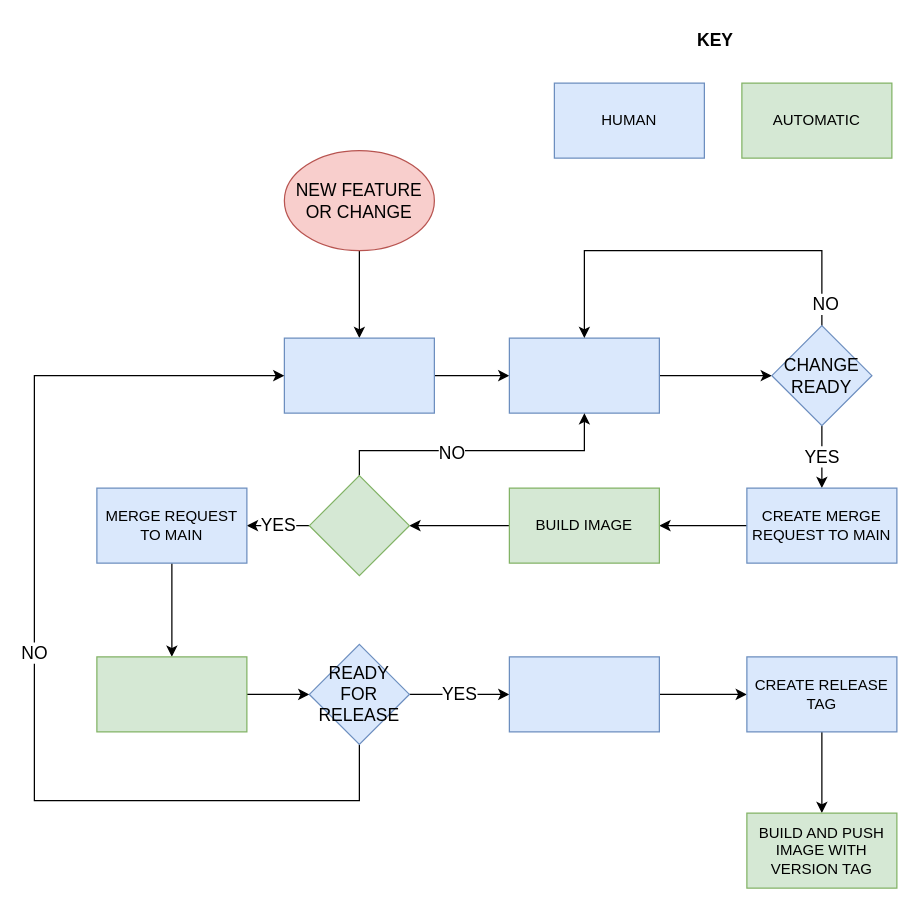
Image size: 919x910. Some labels were removed from this diagram. The shapes that lost their labels are listed below. From the top down, each one's centre as x and y in pixels, then its label:
At (x=358, y=375): "CREATE BRANCH FOR CHANGE".
At (x=583, y=375): "ADD COMMIT AND PUSH TO REPO".
At (x=358, y=525): "BUILD SUCESSFUL".
At (x=171, y=694): "BUILD AND PUSH IMAGE WITH DEV TAG".
At (x=583, y=694): "CREATE RELEASE BRANCH OFF MAIN".
